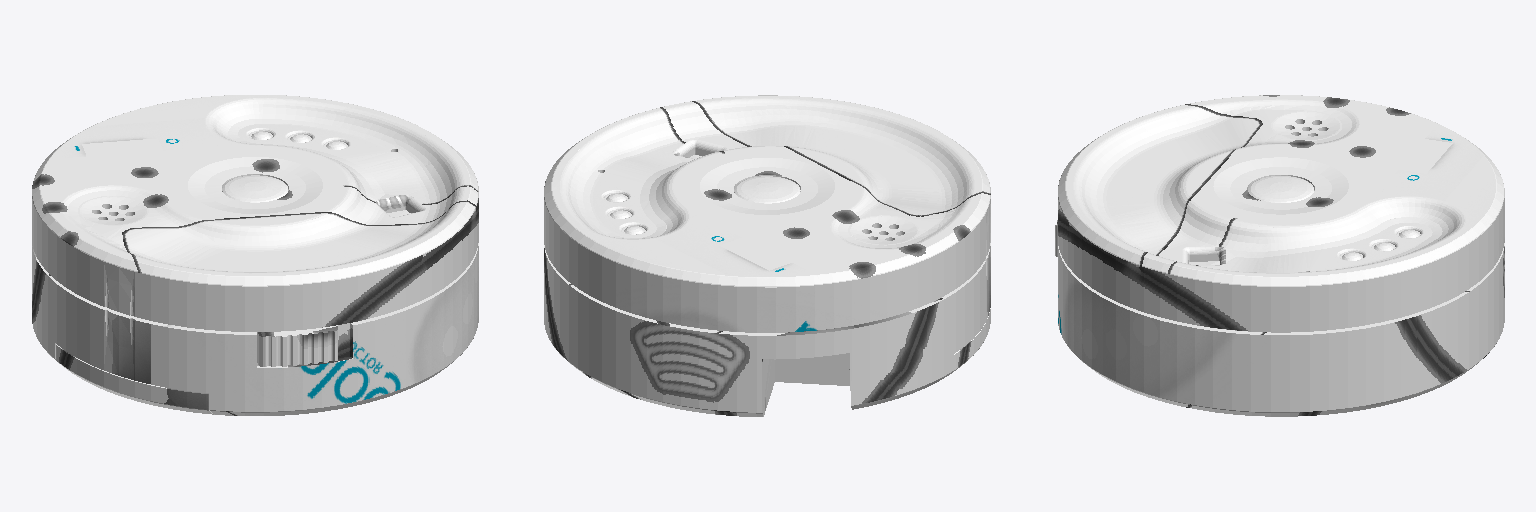
The picture shows the model from 3 angles: view 1: azimuth 30°, elevation 25°; view 2: azimuth 150°, elevation 25°; view 3: azimuth 270°, elevation 25°; orthographic projection.
Parts seen in each view (by area): view 1: IoT_Disc_V2_LowPoly_Rebuild_5_Single_Mat; view 2: IoT_Disc_V2_LowPoly_Rebuild_5_Single_Mat; view 3: IoT_Disc_V2_LowPoly_Rebuild_5_Single_Mat.
Part boxes in pixels (bbox=[...]): IoT_Disc_V2_LowPoly_Rebuild_5_Single_Mat: bbox=[32, 95, 478, 415]; IoT_Disc_V2_LowPoly_Rebuild_5_Single_Mat: bbox=[544, 95, 990, 416]; IoT_Disc_V2_LowPoly_Rebuild_5_Single_Mat: bbox=[1055, 95, 1504, 416].
Bounding box in the file's own units: 6.59 × 2.28 × 6.63.
Materials: 1 (1 with a texture image).